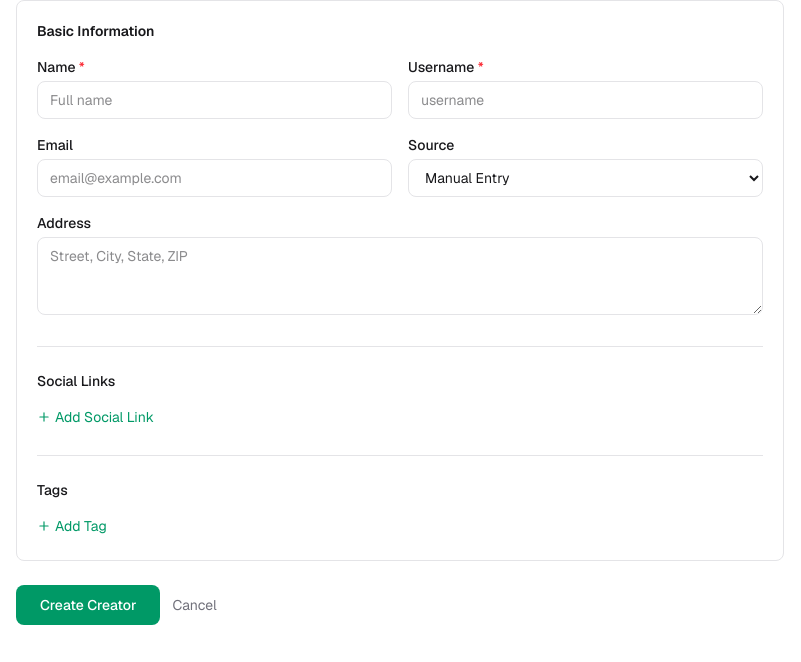
Test: CreatorForm › shows API field errors
Type "Alice Chen" into the field with placeholder "Full name" at [214, 100], box [37,81,392,119]
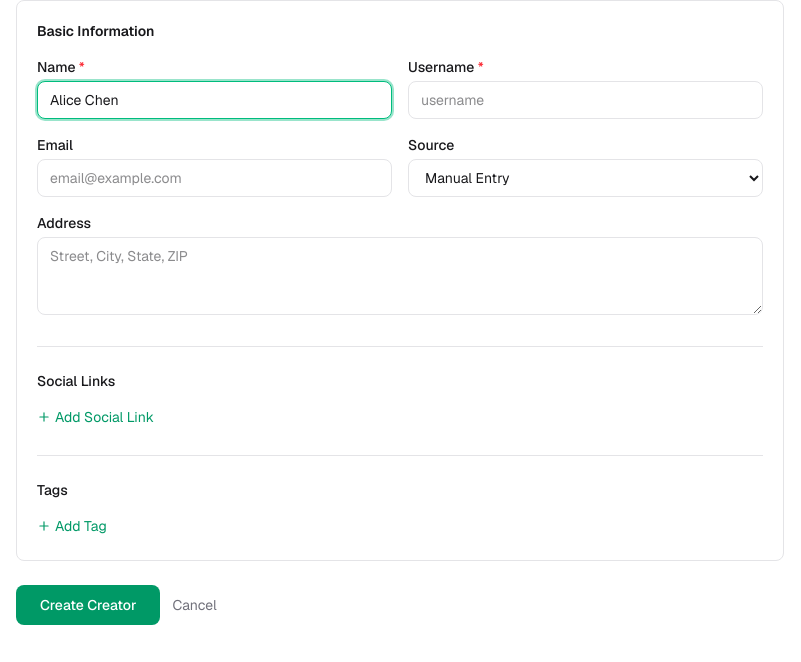
Type "alicechen" into the field with placeholder "username" at [586, 100], box [408,81,763,119]
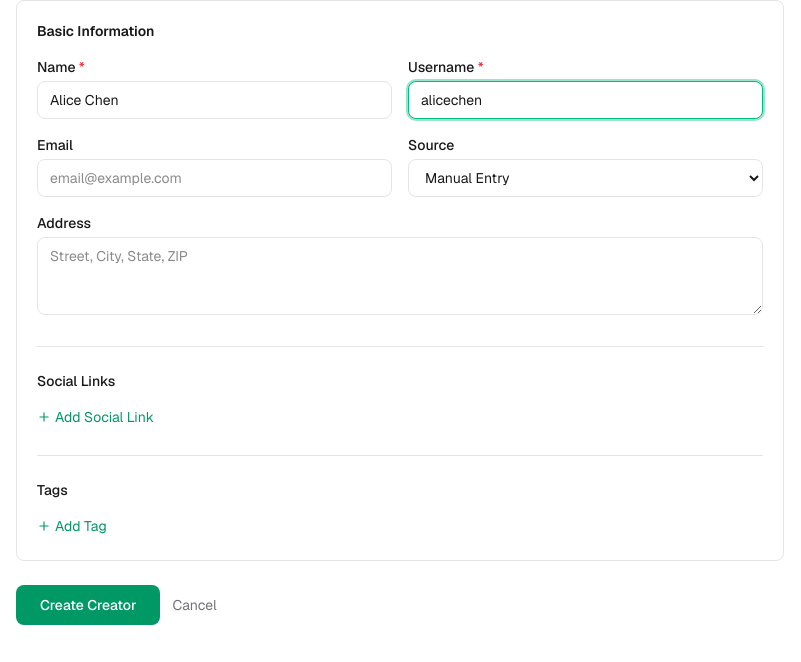
Click the button "Create Creator" at [88, 605], box [16,585,160,625]
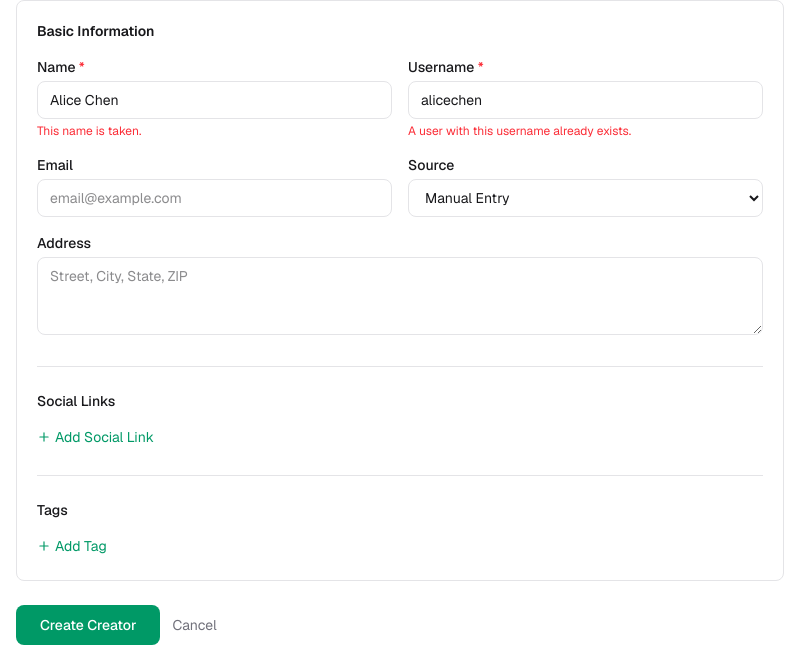
Check: the text "This name is taken." is shown, box [37,123,141,139]
Check: the text "A user with this username already exists." is shown, box [408,123,631,139]
